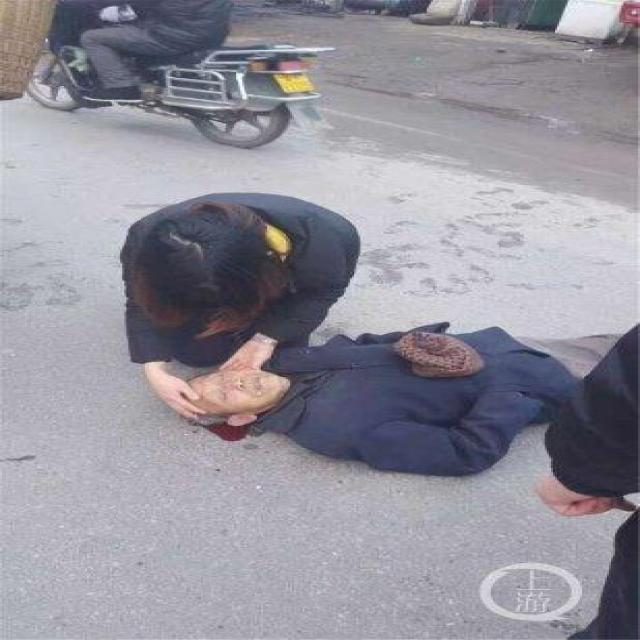fall: (160, 314, 602, 471)
nonfall: (108, 176, 359, 377)
